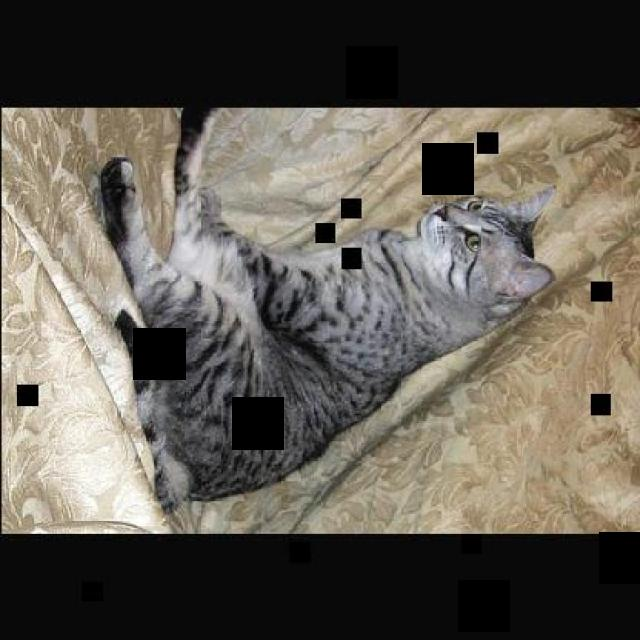unauthorized: (95, 106, 556, 514)
